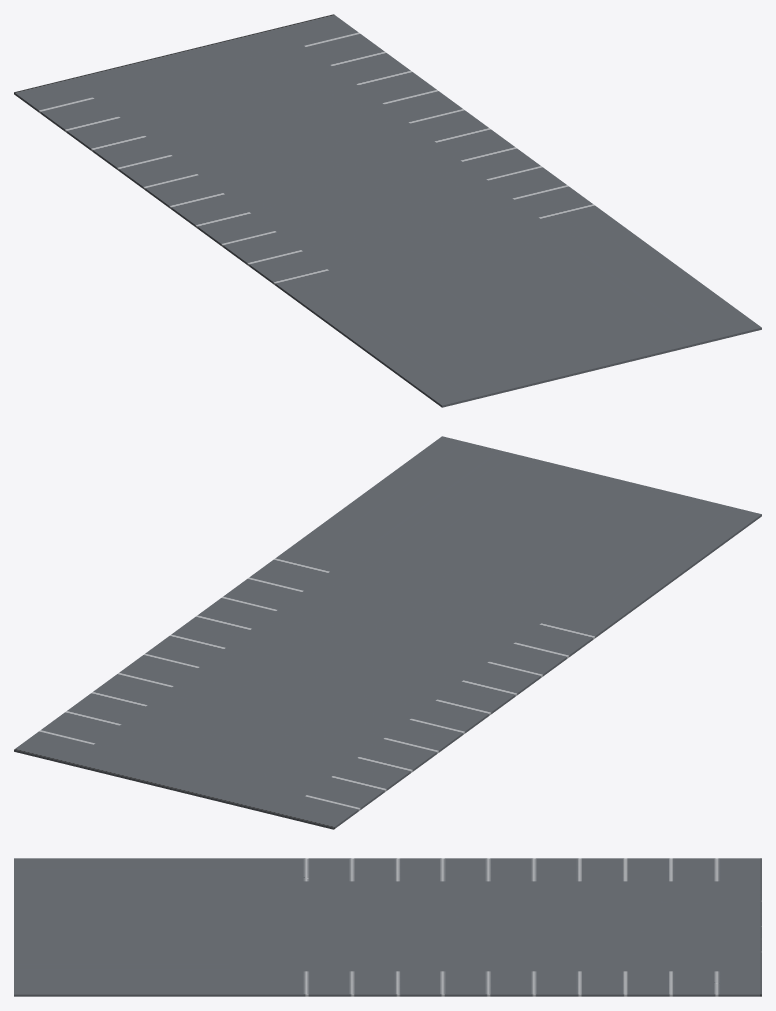
The model's file is parkinglotfinal2.fbx.
The picture shows the model from 3 angles, top to bottom: view 1: azimuth 30°, elevation 25°; view 2: azimuth 150°, elevation 25°; view 3: azimuth 270°, elevation 25°; orthographic projection. The views are drawn at different scales.
Visible parts, largest first — view 1: parking lot; view 2: parking lot; view 3: parking lot.
Boxes of the visible parts, left/top/right/bottom form: parking lot: left=14, top=14, right=761, bottom=407; parking lot: left=14, top=436, right=761, bottom=829; parking lot: left=14, top=858, right=761, bottom=996.
Bounding box in the file's own units: 1513 × 9.43 × 3510.
1 material, 1 textured.
